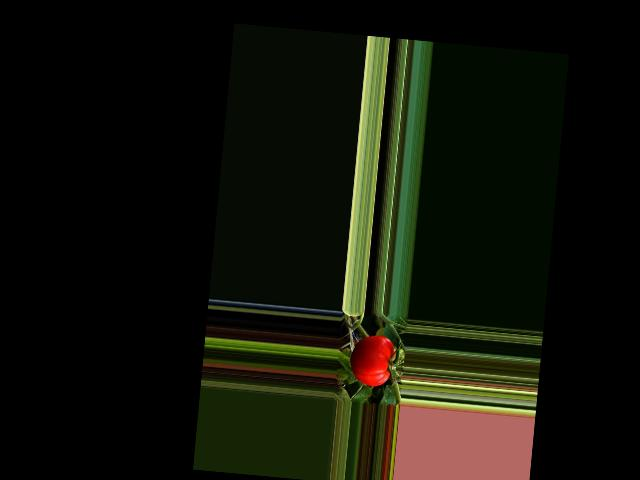tomato: (348, 332, 394, 387)
